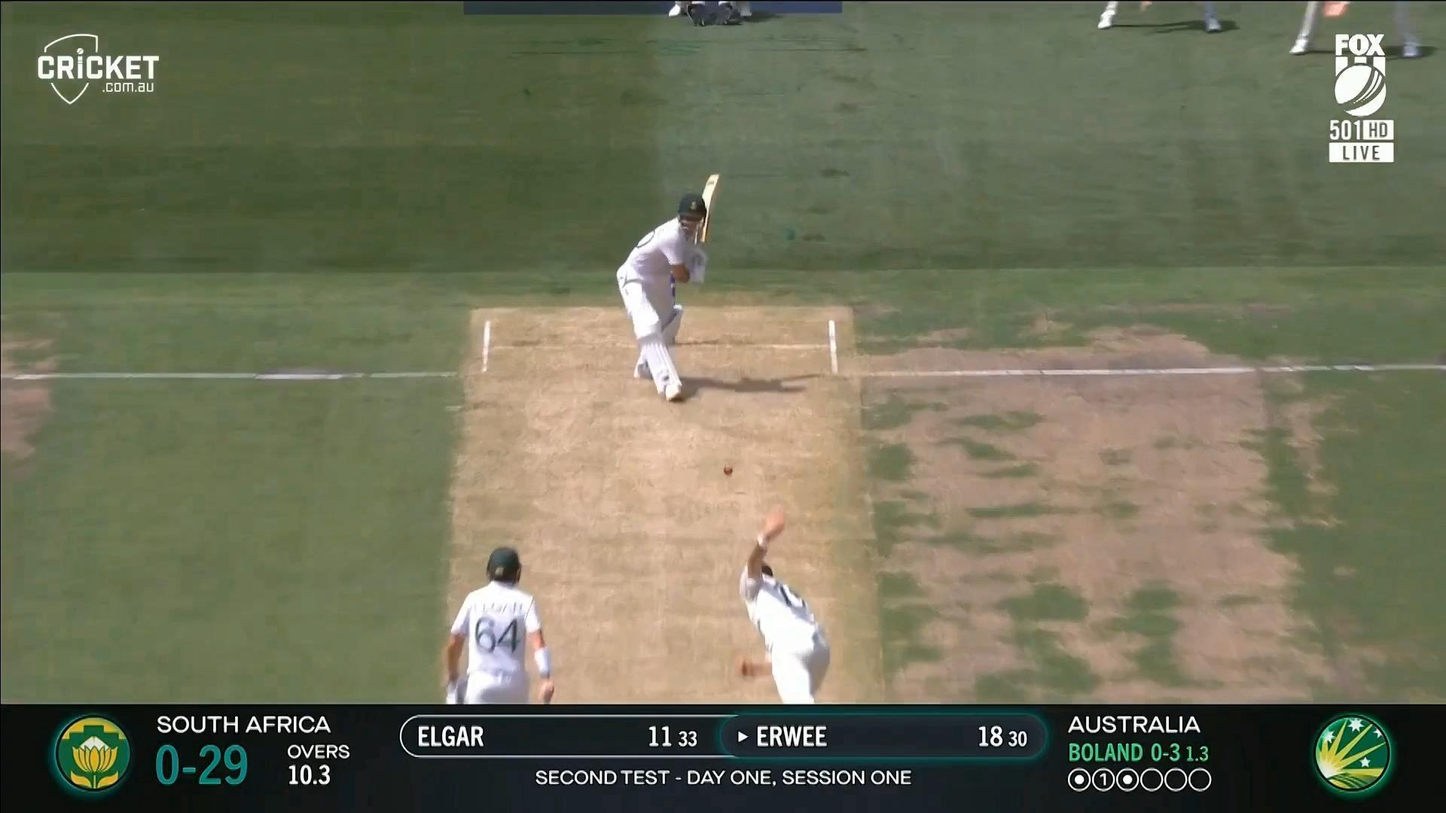BM 1: (616, 172, 723, 403)
BO: (737, 515, 832, 704)
